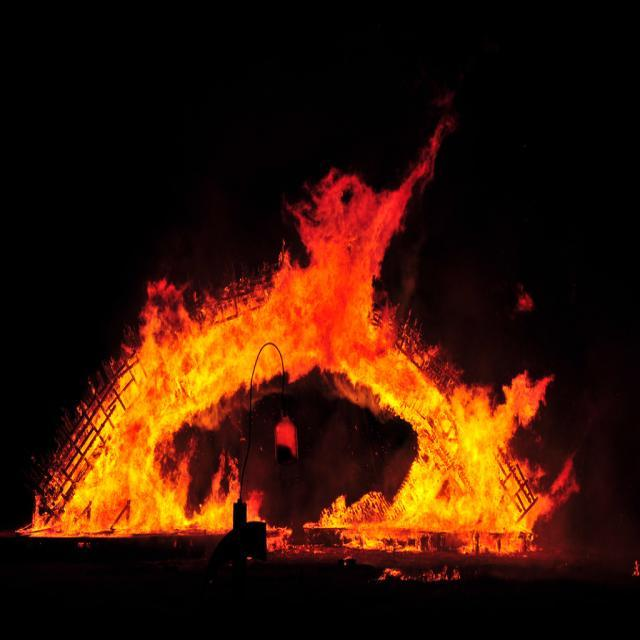Fire: (55, 408, 193, 527), (287, 199, 375, 369), (149, 282, 273, 394), (428, 394, 524, 514)
